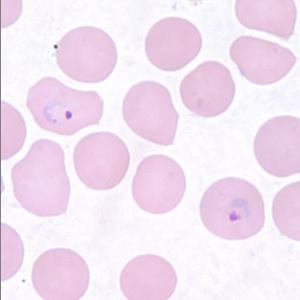Infected: (25, 77, 103, 136), (200, 176, 265, 240)
Uninfected: (11, 138, 70, 219), (55, 25, 117, 85), (122, 80, 179, 145), (229, 35, 297, 86), (73, 131, 130, 191), (178, 61, 237, 118), (132, 154, 186, 215), (144, 16, 203, 71), (31, 248, 89, 300), (254, 113, 300, 178), (119, 254, 176, 300), (234, 0, 296, 40)
